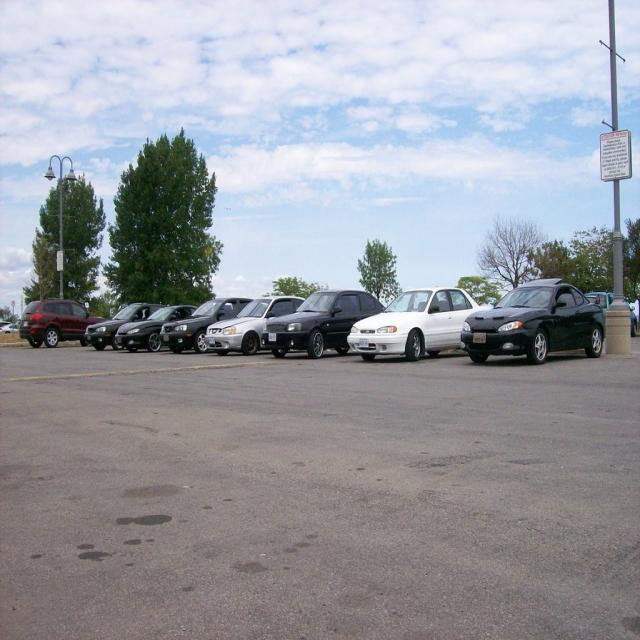car: (459, 271, 613, 361)
